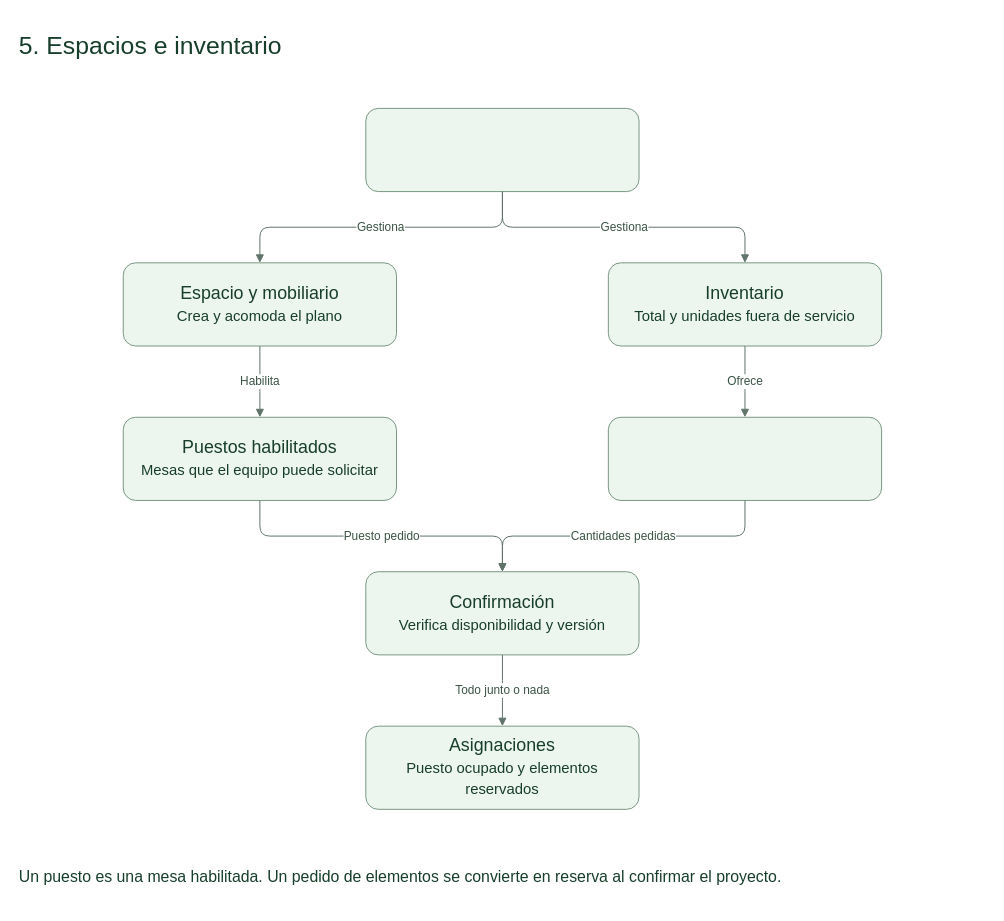
This 1004x921 diagram has some shape labels left out. Each missing label, with the box of its shape:
Administración Cuenta real con rol admin: (365, 107, 639, 192)
Catálogo autorizado Elementos para el pedido del equipo: (607, 416, 882, 500)
